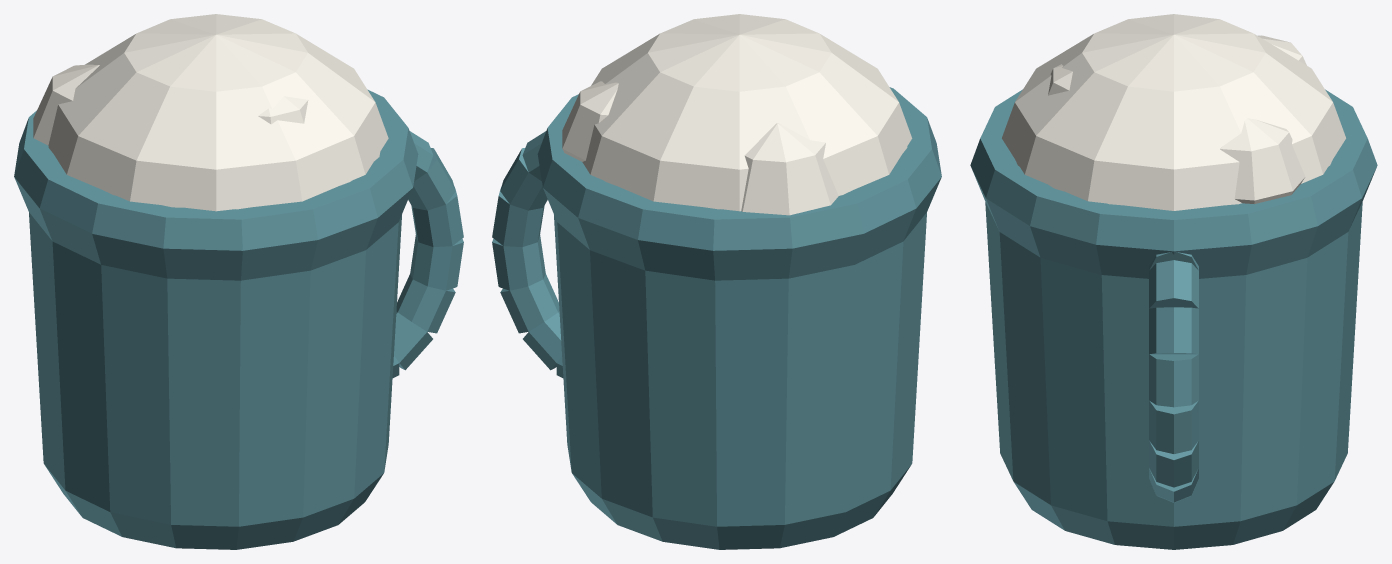
File: shaving-mug.glb
3 renders of one model, left to right at view 1: azimuth 30°, elevation 25°; view 2: azimuth 150°, elevation 25°; view 3: azimuth 270°, elevation 25°, orthographic.
Visible parts, largest first — view 1: ceramic, Sphere, Cone.003, Cone.002, Sphere.001, Cone.004, Cone.005, Cone.001, Sphere.003, Cone.006; view 2: ceramic, Sphere, Sphere.001, Sphere.002, Cone.003, Cone.002, Cone.004, Cone.005, Cone.001, Cone.006; view 3: ceramic, Sphere, Sphere.002, Cone.004, Cone.005, Cone.003, Cone.006, Cone.002, Cone.001, Sphere.003.
Part boxes in pixels (x1,y1,x2,y2): ceramic: [14, 89, 418, 549]; Sphere: [48, 14, 388, 211]; Cone.003: [410, 235, 463, 290]; Cone.002: [396, 274, 455, 333]; Sphere.001: [33, 64, 99, 145]; Cone.004: [411, 186, 463, 247]; Cone.005: [408, 148, 455, 210]; Cone.001: [394, 311, 432, 370]; Sphere.003: [258, 96, 308, 124]; Cone.006: [410, 131, 433, 181]; ceramic: [537, 87, 941, 549]; Sphere: [582, 14, 912, 211]; Sphere.001: [741, 123, 838, 215]; Sphere.002: [562, 81, 618, 161]; Cone.003: [492, 235, 545, 290]; Cone.002: [500, 274, 559, 333]; Cone.004: [492, 186, 544, 247]; Cone.005: [500, 148, 547, 210]; Cone.001: [523, 311, 561, 370]; Cone.006: [522, 131, 545, 181]; ceramic: [970, 89, 1377, 549]; Sphere: [1002, 14, 1345, 210]; Sphere.002: [1220, 118, 1305, 203]; Cone.004: [1149, 354, 1198, 407]; Cone.005: [1149, 307, 1198, 354]; Cone.003: [1149, 400, 1198, 453]; Cone.006: [1149, 260, 1198, 308]; Cone.002: [1149, 440, 1198, 487]; Cone.001: [1149, 468, 1198, 502]; Sphere.003: [1048, 64, 1072, 95].
Size of the model in its own units: 0.0979 by 0.1 by 0.082.
